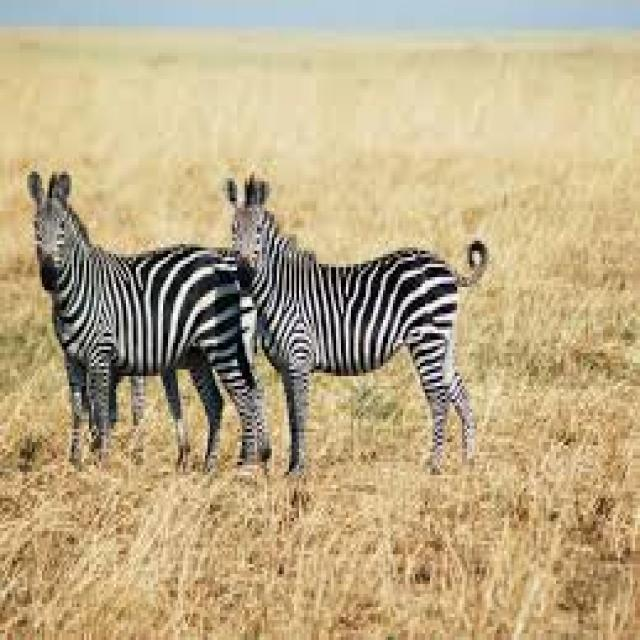Zebra: (224, 172, 478, 466), (26, 171, 273, 462)
